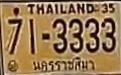1: (29, 18, 34, 54)
3: (84, 17, 99, 52), (52, 18, 66, 52), (68, 18, 82, 52), (101, 17, 115, 51)
7: (7, 18, 22, 54)
NMA: (30, 56, 96, 72)
